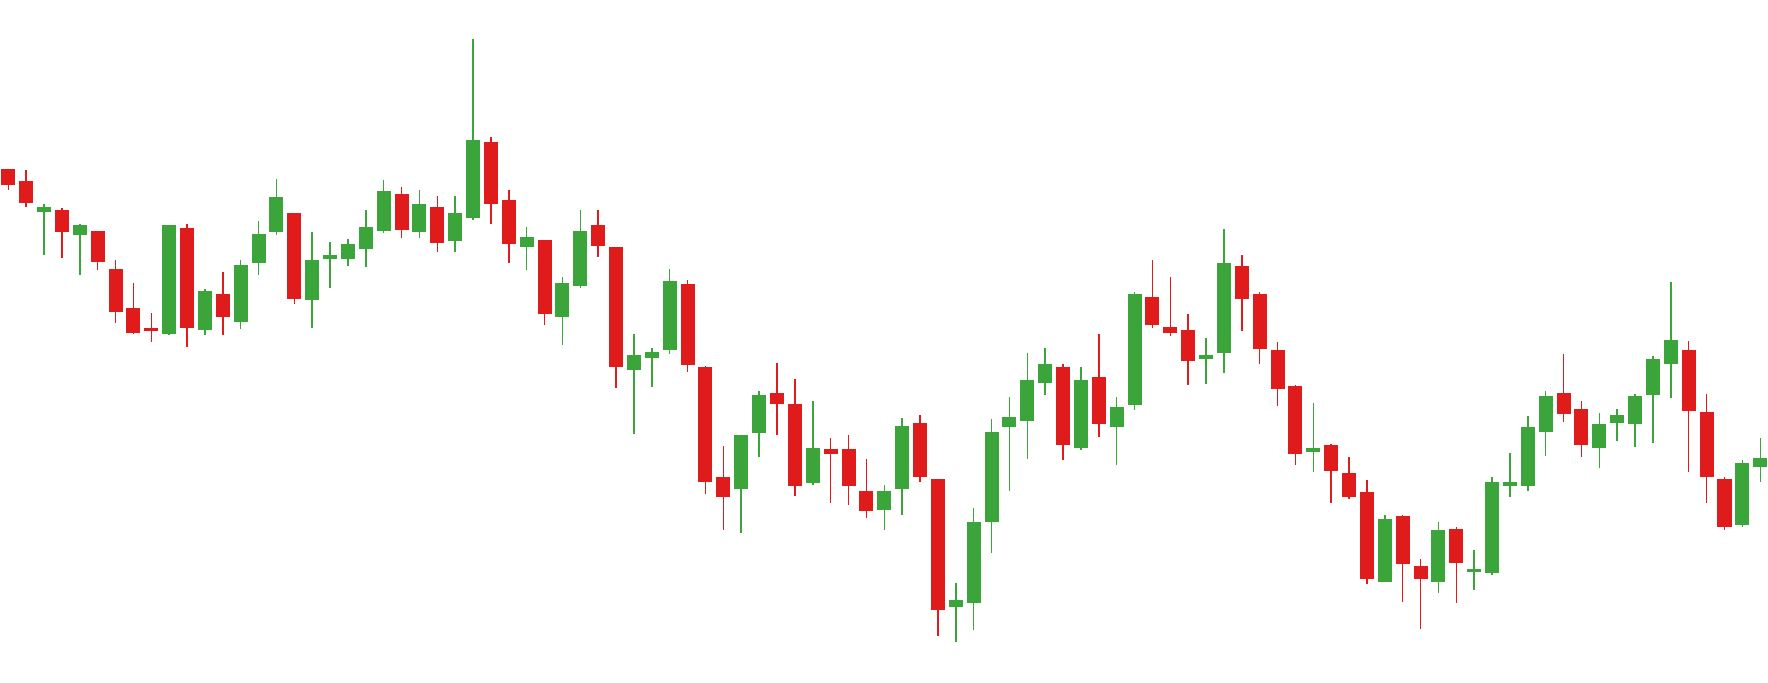buy: (717, 424, 985, 650)
sell: (1554, 282, 1699, 443), (1144, 233, 1253, 348)
